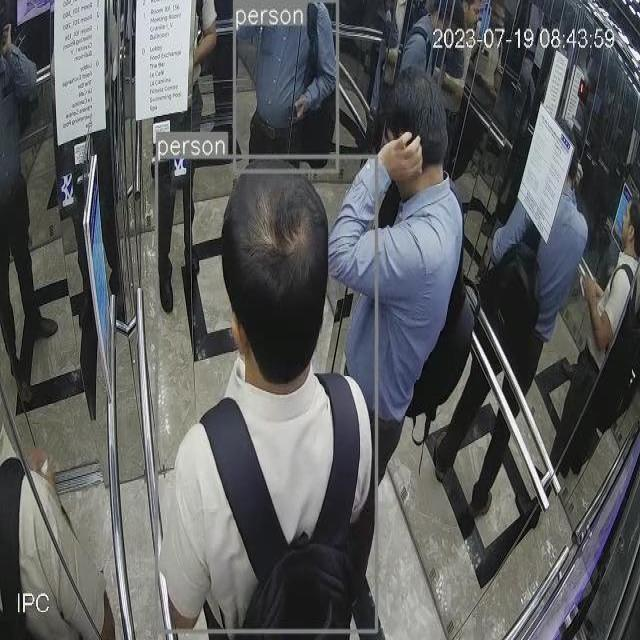person: (133, 133, 359, 628), (330, 76, 469, 625), (0, 201, 130, 611), (238, 1, 336, 175)
